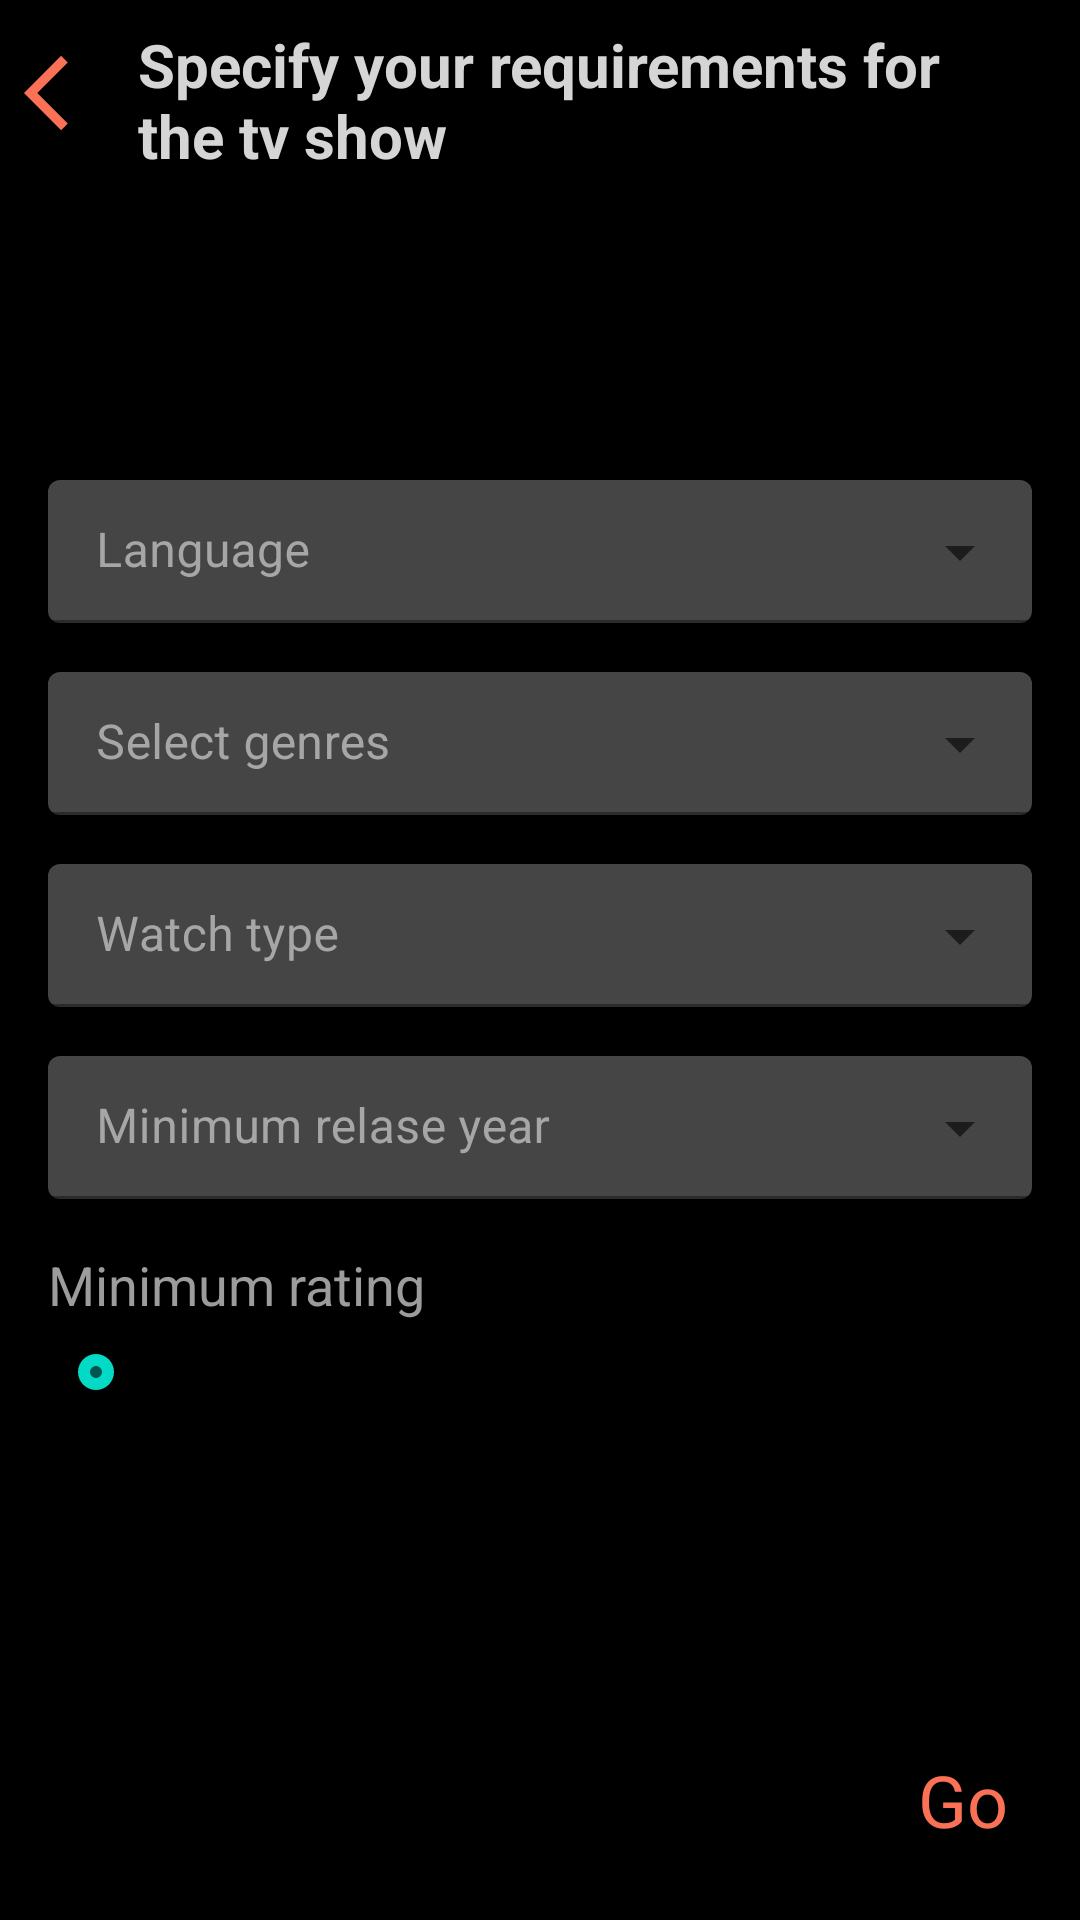

Icons on this 1080*1920 Android screen, each with the point to tap as [x,y]:
back: [46,93]
